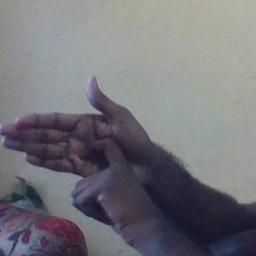R: (2, 70, 159, 216)
